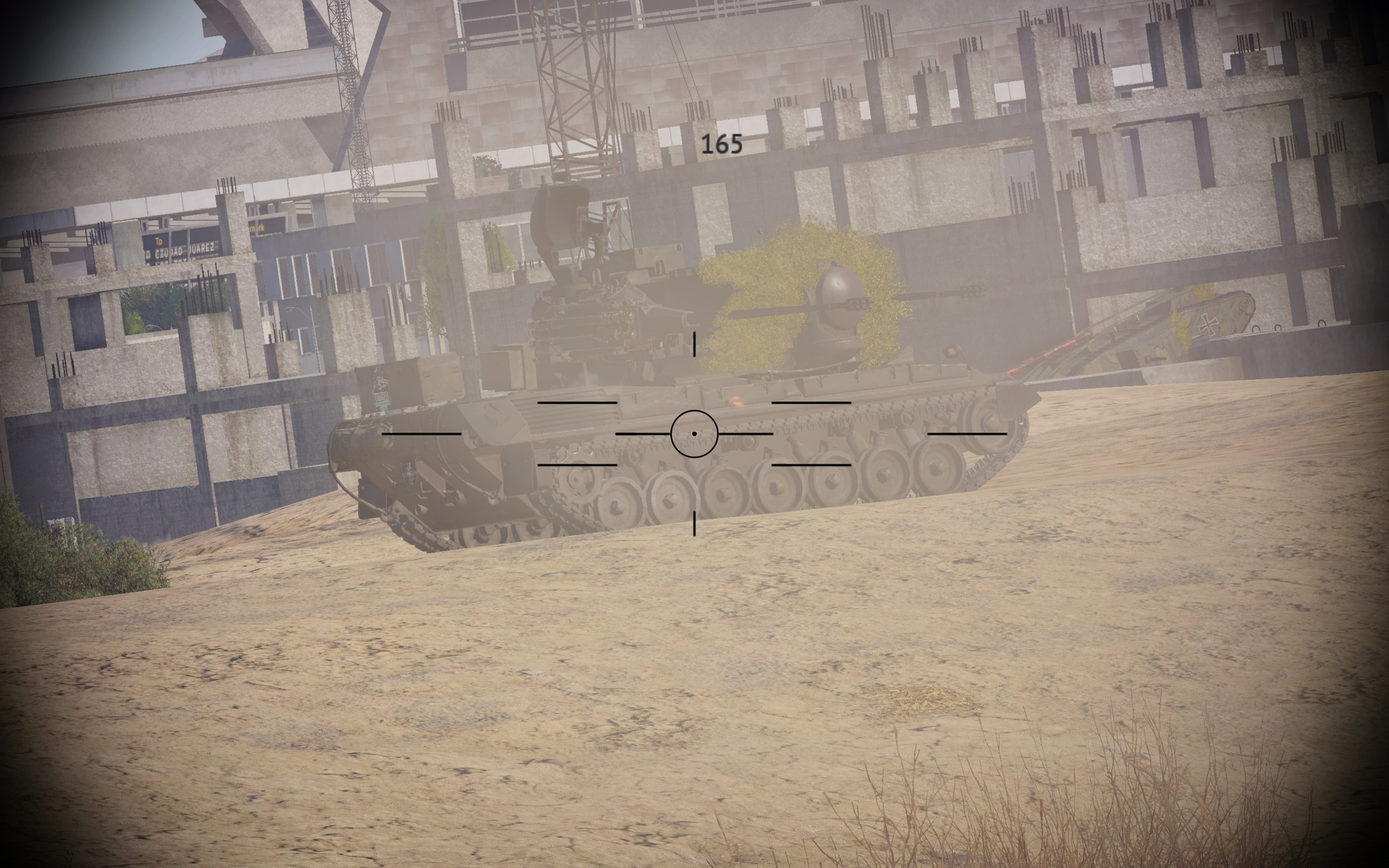spaa_gepard: (327, 182, 1044, 570)
